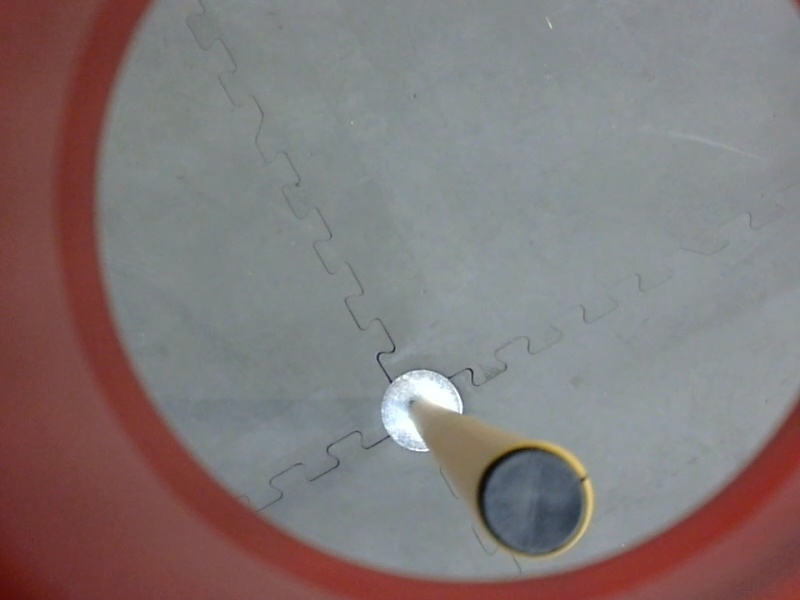tip: (472, 432, 599, 566)
